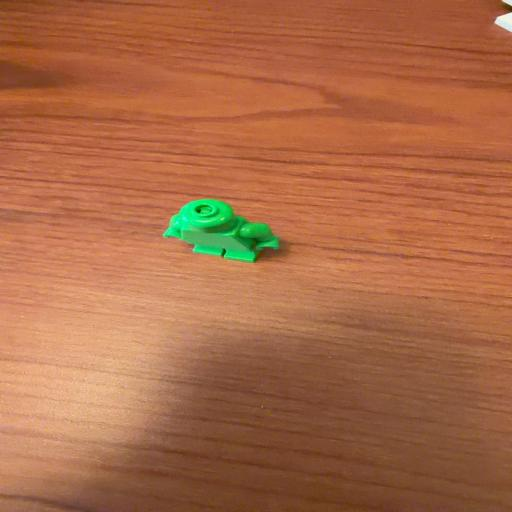UnoQ-minifig-detector: (163, 197, 282, 264)
